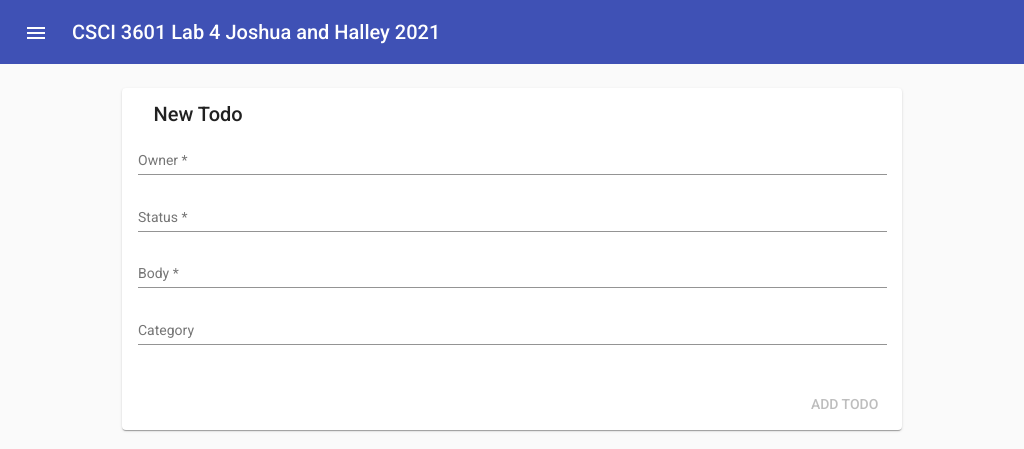
it: Add todo › Should enable and disable the add todo button
Expected: the button with test id "confirmAddTodoButton" is disabled, [795,386,895,422]
Step 1. Type "test" into the field labelled "Owner *" → (513, 161), box [138,153,887,169]
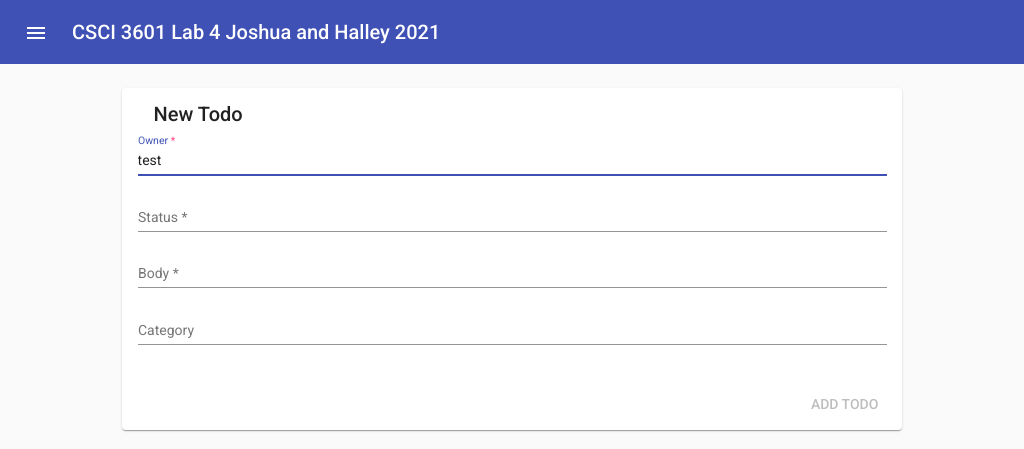
Expected: the button with test id "confirmAddTodoButton" is disabled, [795,386,895,422]
Step 2. Type "complete" into the field labelled "Status *" → (513, 218), box [138,210,887,226]
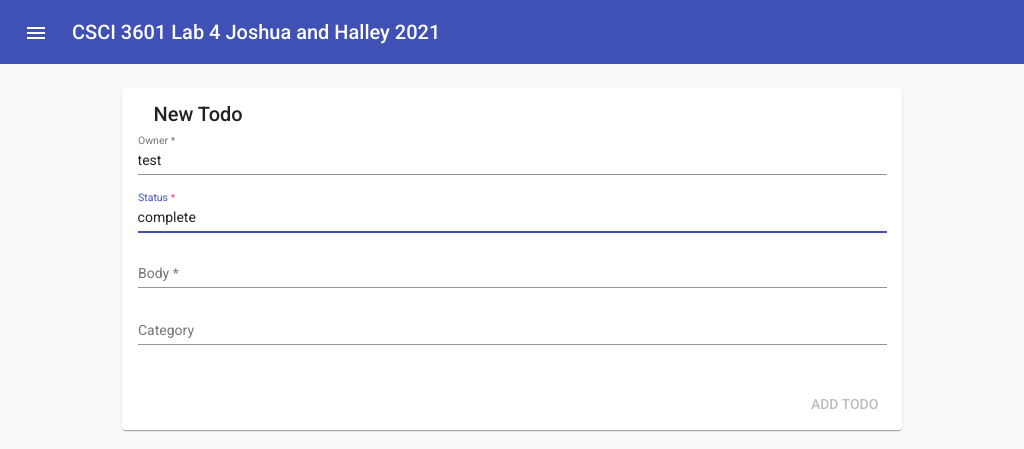
Expected: the button with test id "confirmAddTodoButton" is disabled, [795,386,895,422]
Step 3. Type "groceries" into the field with placeholder "Category" → (513, 331), box [138,323,887,339]
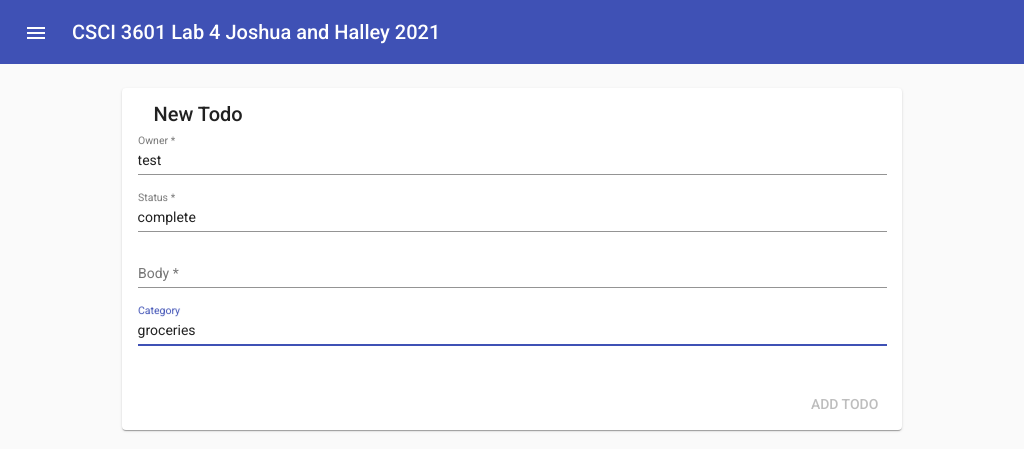
Expected: the button with test id "confirmAddTodoButton" is disabled, [795,386,895,422]
Step 4. Type "Blah Blah Blah" into the field labelled "Body *" → (513, 274), box [138,266,887,282]
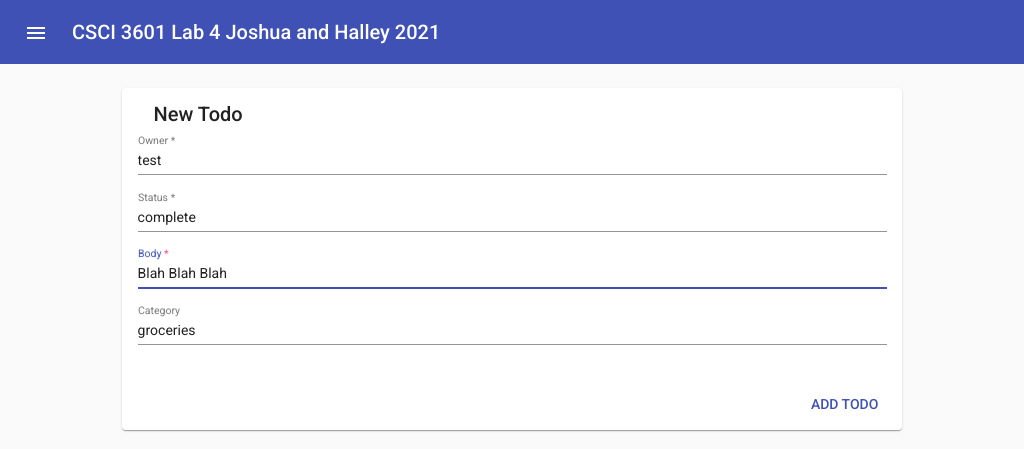
Expected: the button with test id "confirmAddTodoButton" is enabled, [795,386,895,422]
